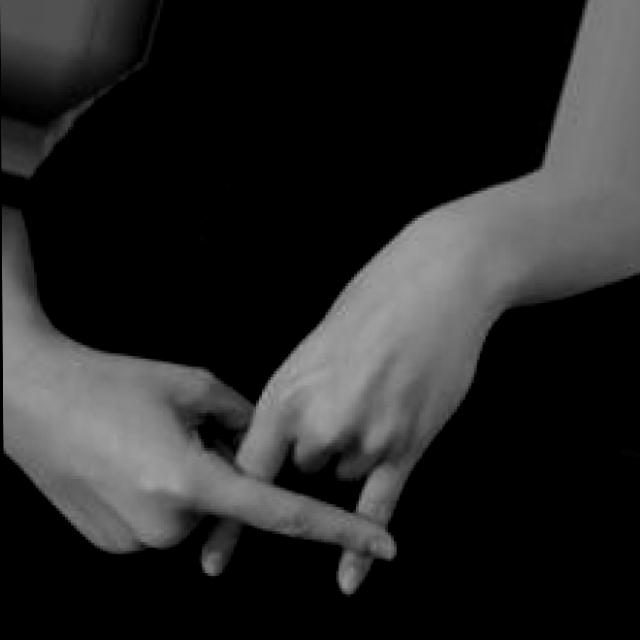H: (2, 272, 452, 602)
